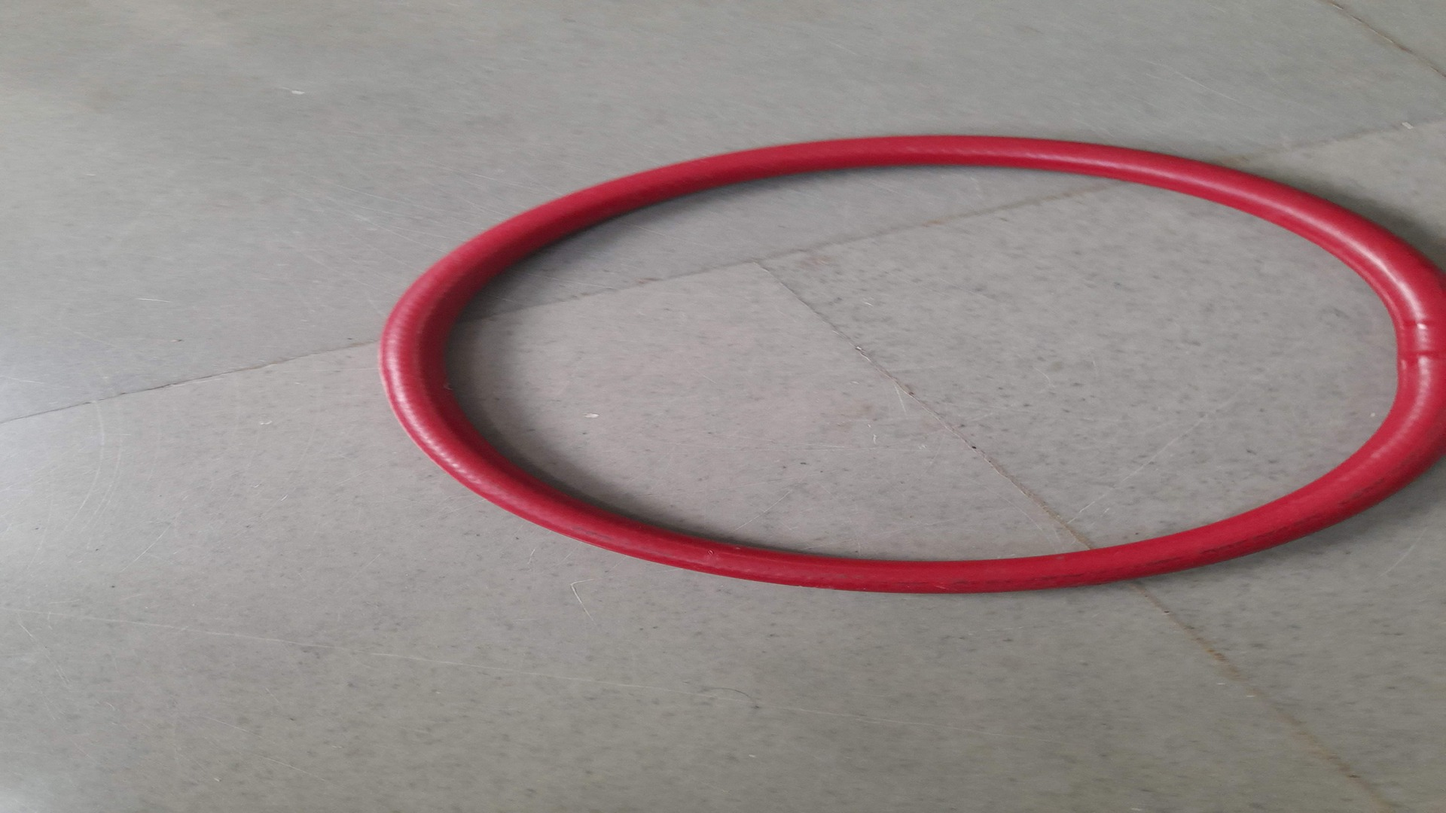Red ring: (374, 138, 1432, 593)
